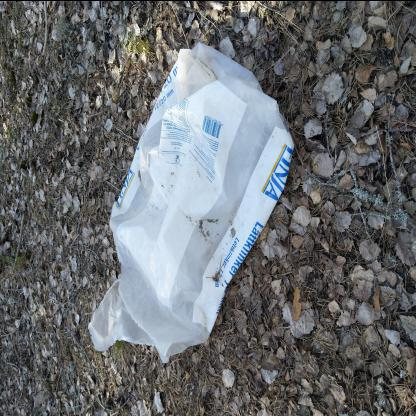plastik: (89, 42, 296, 364)
